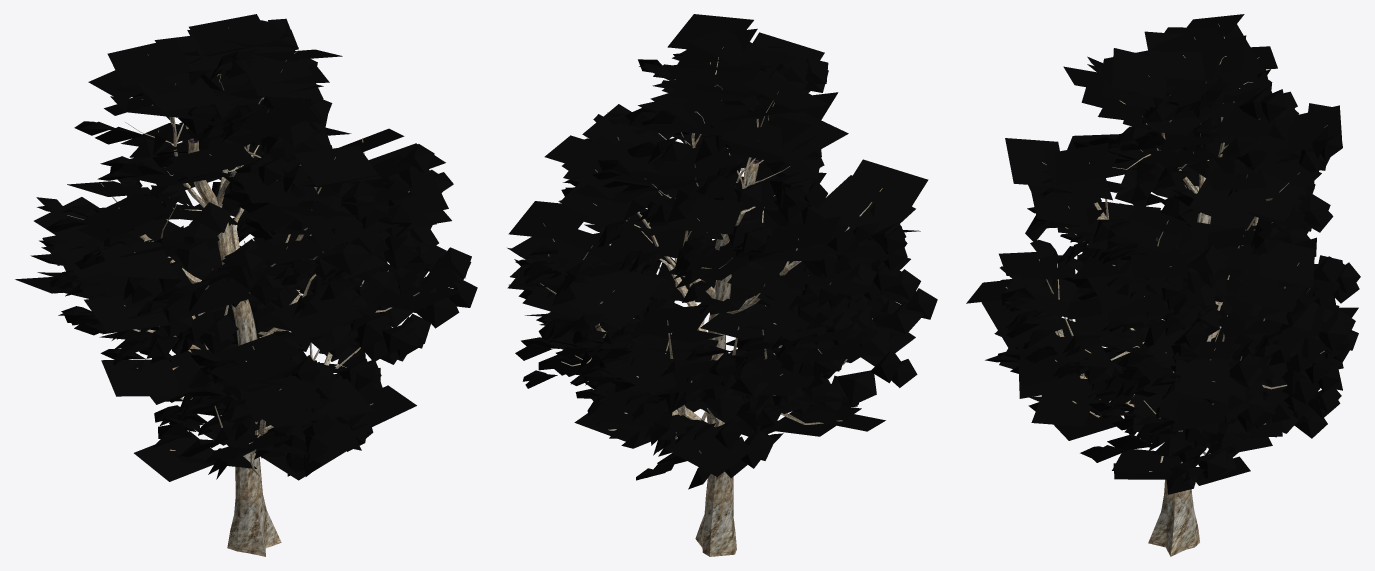
The model's file is plane-b-summer.fbx.
3 renders of one model, left to right at view 1: azimuth 30°, elevation 25°; view 2: azimuth 150°, elevation 25°; view 3: azimuth 270°, elevation 25°, orthographic. The views are drawn at different scales.
Parts seen in each view (by area): view 1: PlaneUK_b.001; view 2: PlaneUK_b.001; view 3: PlaneUK_b.001.
Boxes of the visible parts, bbox=[...] form: PlaneUK_b.001: bbox=[15, 14, 477, 556]; PlaneUK_b.001: bbox=[507, 14, 937, 556]; PlaneUK_b.001: bbox=[966, 14, 1360, 556].
Bounding box in the file's own units: 934 × 1200 × 856.
